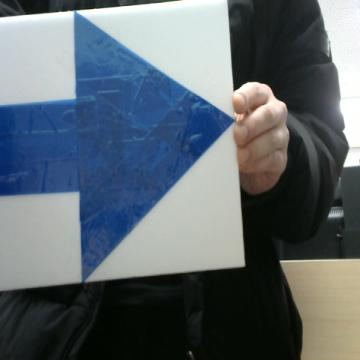blue_right: (0, 11, 232, 279)
